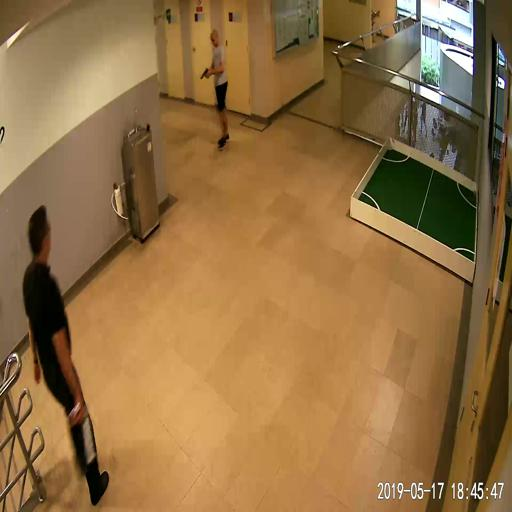pistol: (200, 67, 210, 79)
